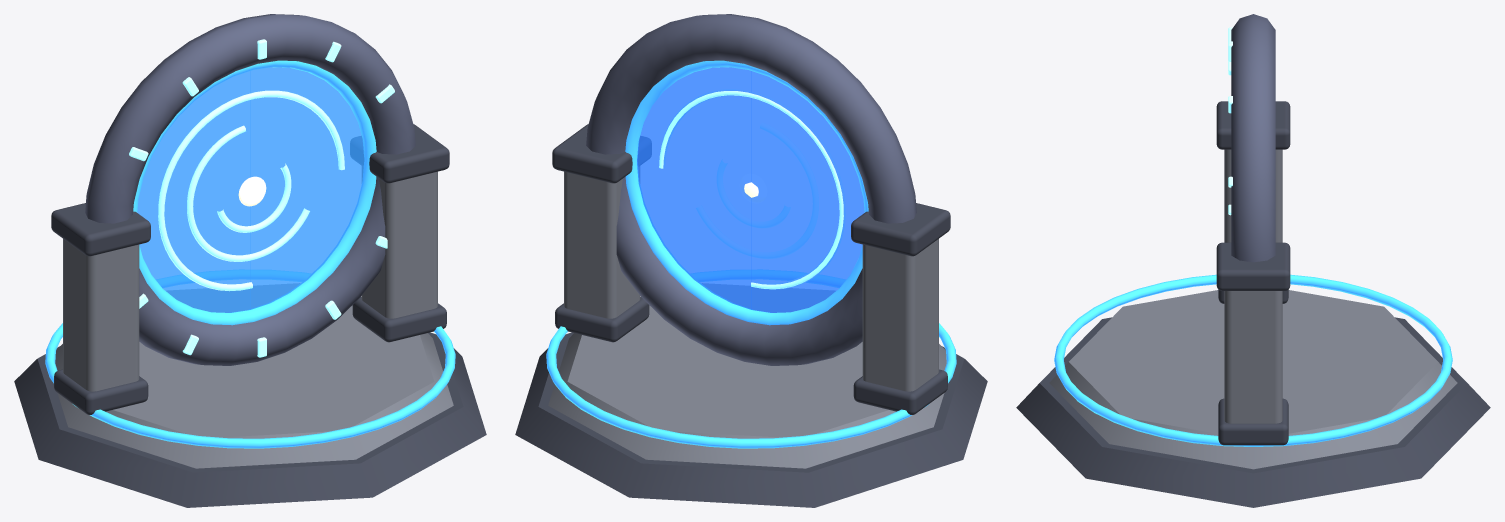
The model's file is prop_portal.glb.
3 views of the same model, side by side, from view 1: azimuth 30°, elevation 25°; view 2: azimuth 150°, elevation 25°; view 3: azimuth 270°, elevation 25° (orthographic). The views are drawn at different scales.
Parts seen in each view (by area): view 1: Disc, PlatformTop, RingStone, PlatformLow, Pillar-1, Pillar1, RingGlowInner, GroundRing, PillarCap-1, SwirlArc0, PillarCap1, PillarBase-1 (+4 smaller); view 2: Disc, PlatformTop, RingStone, PlatformLow, Pillar-1, Pillar1, RingGlowInner, GroundRing, PillarCap-1, SwirlArc0, PillarCap1, PillarBase-1 (+4 smaller); view 3: PlatformTop, PlatformLow, RingStone, GroundRing, Pillar1, PillarCap1, PillarBase1, PillarCap-1, Pillar-1.
Part boxes in pixels (<box>): Disc: <box>137,67,364,312</box>; PlatformTop: <box>55,283,453,468</box>; RingStone: <box>85,14,415,365</box>; PlatformLow: <box>14,332,486,507</box>; Pillar-1: <box>63,239,139,391</box>; Pillar1: <box>361,167,437,318</box>; RingGlowInner: <box>133,60,376,325</box>; GroundRing: <box>45,270,455,448</box>; PillarCap-1: <box>51,203,150,256</box>; SwirlArc0: <box>158,90,344,291</box>; PillarCap1: <box>350,124,449,183</box>; PillarBase-1: <box>54,369,148,414</box>; Disc: <box>637,67,864,312</box>; PlatformTop: <box>548,283,946,468</box>; RingStone: <box>586,14,916,365</box>; PlatformLow: <box>515,332,987,507</box>; Pillar-1: <box>862,239,938,391</box>; Pillar1: <box>564,167,640,318</box>; RingGlowInner: <box>625,60,868,325</box>; GroundRing: <box>546,270,956,448</box>; PillarCap-1: <box>851,203,950,256</box>; SwirlArc0: <box>659,89,845,289</box>; PillarCap1: <box>552,124,651,183</box>; PillarBase-1: <box>853,369,947,414</box>; PlatformTop: <box>1049,290,1457,469</box>; PlatformLow: <box>1016,317,1490,507</box>; RingStone: <box>1231,14,1275,262</box>; GroundRing: <box>1054,274,1452,446</box>; Pillar1: <box>1224,291,1282,423</box>; PillarCap1: <box>1216,242,1290,290</box>; PillarBase1: <box>1218,398,1288,445</box>; PillarCap-1: <box>1216,101,1290,149</box>; Pillar-1: <box>1224,149,1282,242</box>.
Size of the model in its own units: 2.44 by 2.14 by 2.44.
